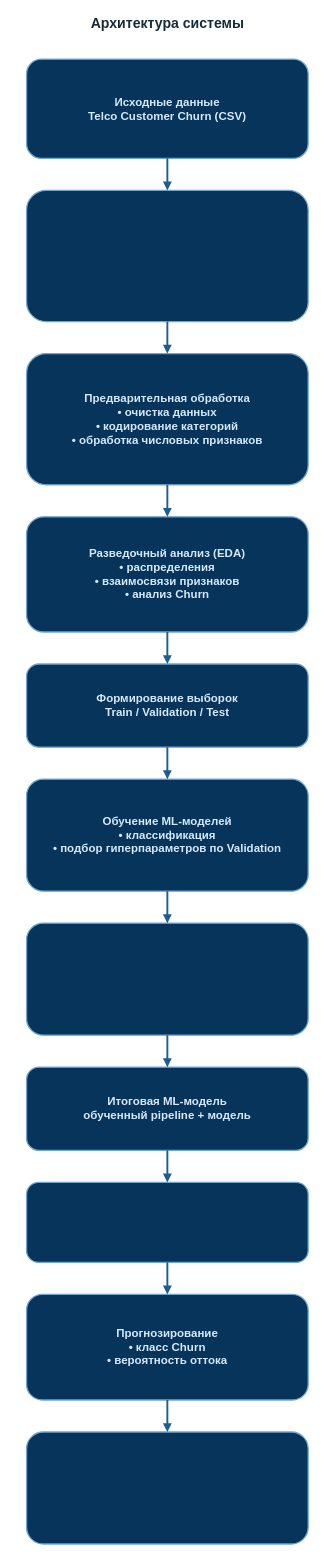
Some shapes in this 335 by 1555 pixel diagram are drawn without their labels. The shapes that lost their labels are listed below. From the top down, each one's box as (x1, y1, x2, y2) in pixels, then its label:
(26, 189, 308, 322): Проверка качества данных • пропуски • дубликаты • типы данных • выбросы и ошибки
(26, 922, 308, 1036): Итоговая оценка качества на Test: Precision / Recall / F1 / ROC-AUC
(26, 1181, 308, 1263): Новые данные клиентов incoming batch
(26, 1431, 308, 1544): Бизнес-результат Выделение клиентов с высоким риском оттока
